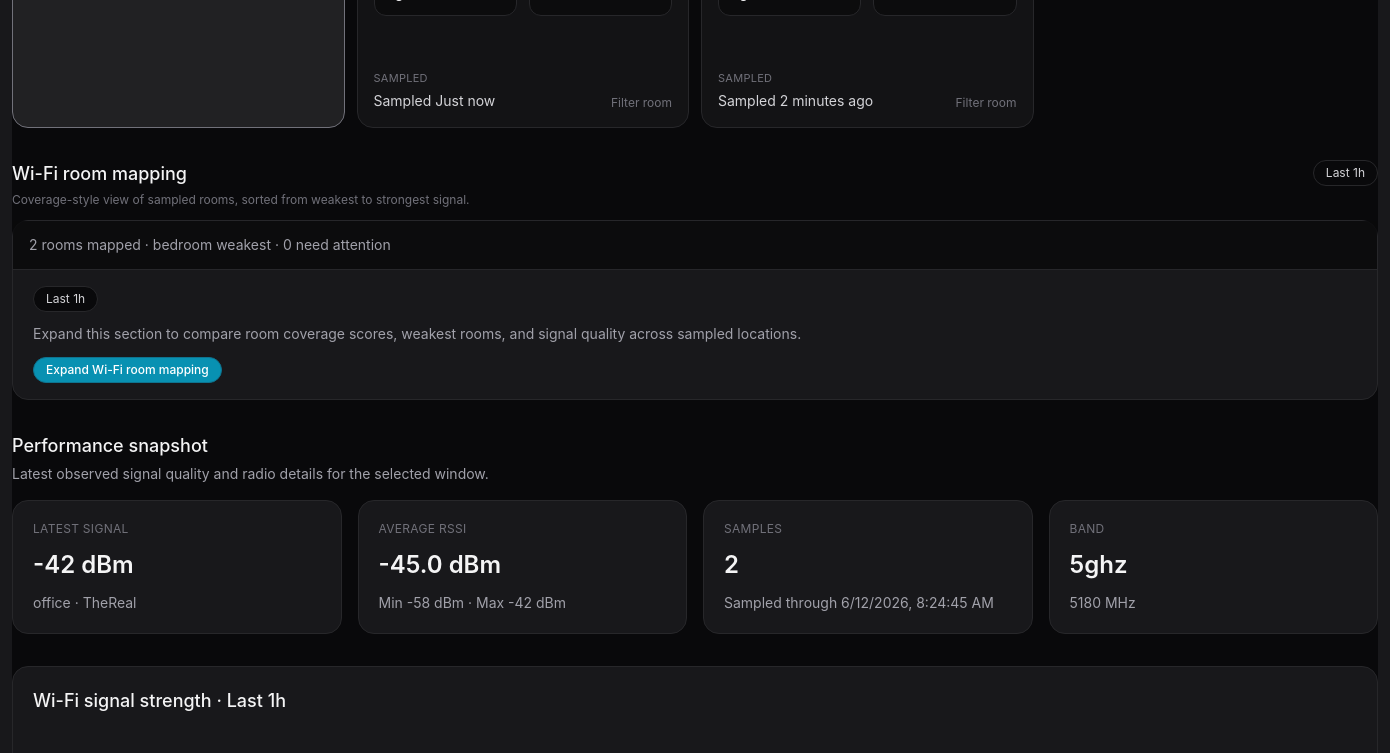
WifiPage › renders wifi room mapping coverage summary
(page scrolled)
expect the heading "Wi-Fi room mapping" is shown: met, box 12,162 -> 187,184
Click the button "Expand Wi-Fi room mapping". click: [127, 370]
box: 33,356 -> 222,382
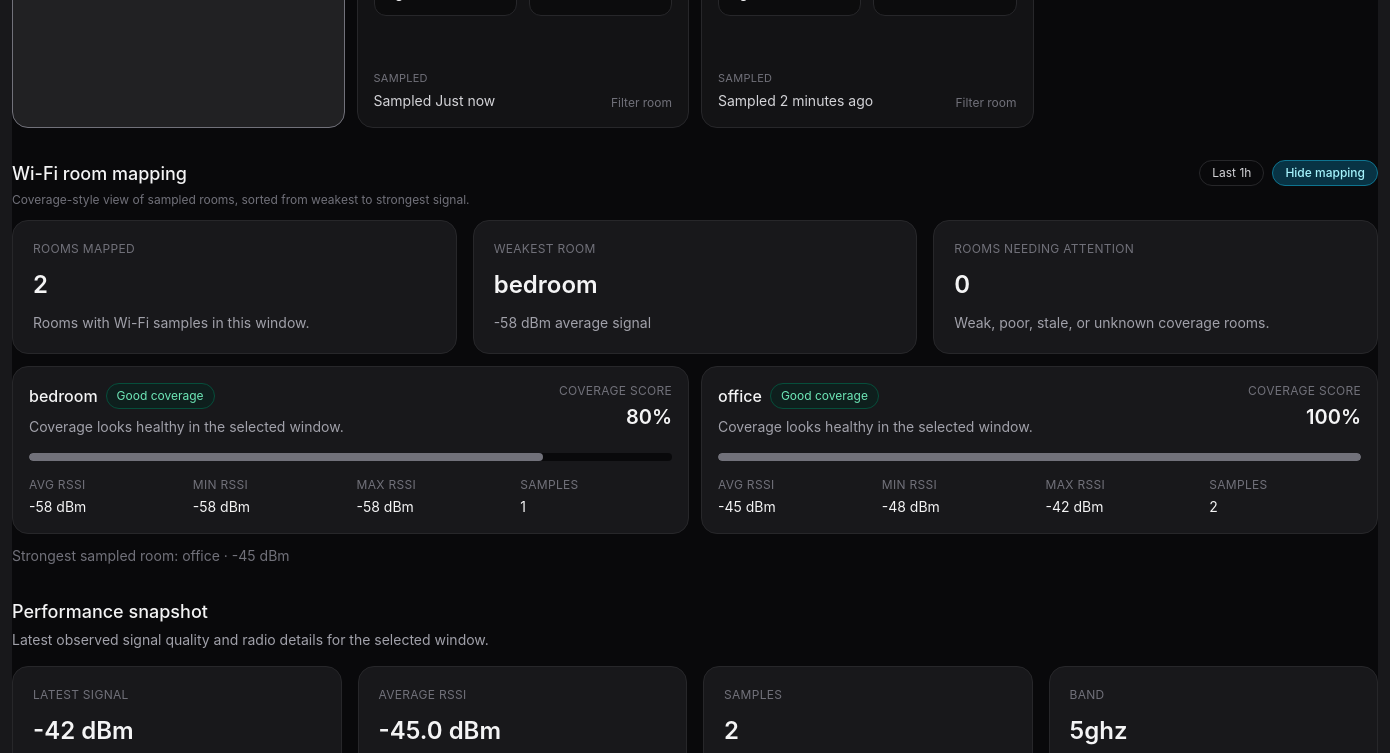
expect the text "Rooms needing attention" is shown: met, box 954,240 -> 1134,256
expect the 1st text "Coverage score" is shown: met, box 559,382 -> 672,398
expect the text "Strongest sampled room: office · -45 dBm" is shown: met, box 12,546 -> 290,564
